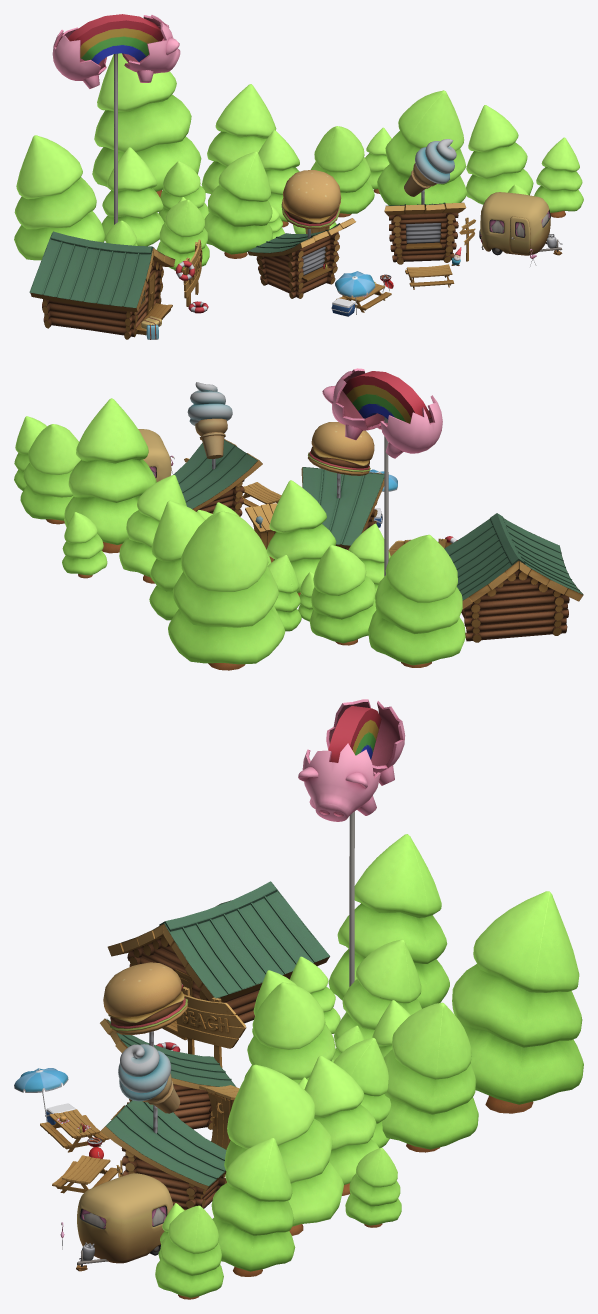
The picture shows the model from 3 angles, top to bottom: view 1: azimuth 30°, elevation 25°; view 2: azimuth 150°, elevation 25°; view 3: azimuth 270°, elevation 25°; orthographic projection. The views are drawn at different scales.
Visible parts, largest first — view 1: Group011_Material #11267_0, Group010_Material #11267_0, Object179_12 - Default_0, Group009_Material #11267_0, Object180_12 - Default_0, Group002_Material #11267_0, Cylinder002_05 - Default_0, Group012_Material #11267_0, Object153_Roulotte_0, Cylinder124_06 - Default_0, Group008_Material #11267_0, Object166_06 - Default_0 (+3 smaller); view 2: Group011_Material #11267_0, Group010_Material #11267_0, Group009_Material #11267_0, Object179_12 - Default_0, Object180_12 - Default_0, Cylinder002_05 - Default_0, Group002_Material #11267_0, Group012_Material #11267_0, Cylinder124_06 - Default_0, Object166_06 - Default_0, Object153_Roulotte_0, Box002_becosse_0 (+1 smaller); view 3: Group011_Material #11267_0, Group009_Material #11267_0, Group010_Material #11267_0, Object179_12 - Default_0, Group012_Material #11267_0, Object180_12 - Default_0, Cylinder002_05 - Default_0, Group002_Material #11267_0, Object153_Roulotte_0, Cylinder124_06 - Default_0, Object166_06 - Default_0, Obfff (+4 smaller).
Part boxes in pixels (bbox=[...]): Group011_Material #11267_0: bbox=[92, 53, 276, 222]; Group010_Material #11267_0: bbox=[14, 135, 164, 260]; Object179_12 - Default_0: bbox=[29, 231, 175, 339]; Group009_Material #11267_0: bbox=[310, 90, 467, 217]; Object180_12 - Default_0: bbox=[247, 189, 466, 298]; Group002_Material #11267_0: bbox=[157, 151, 272, 272]; Cylinder002_05 - Default_0: bbox=[52, 14, 180, 224]; Group012_Material #11267_0: bbox=[466, 105, 583, 217]; Object153_Roulotte_0: bbox=[479, 192, 562, 255]; Cylinder124_06 - Default_0: bbox=[281, 170, 341, 228]; Group008_Material #11267_0: bbox=[258, 130, 336, 238]; Object166_06 - Default_0: bbox=[404, 139, 456, 196]; Group011_Material #11267_0: bbox=[149, 500, 301, 670]; Group010_Material #11267_0: bbox=[309, 534, 465, 667]; Group009_Material #11267_0: bbox=[62, 398, 186, 583]; Object179_12 - Default_0: bbox=[444, 513, 583, 642]; Object180_12 - Default_0: bbox=[173, 439, 384, 550]; Cylinder002_05 - Default_0: bbox=[322, 368, 442, 576]; Group002_Material #11267_0: bbox=[266, 480, 390, 621]; Group012_Material #11267_0: bbox=[14, 416, 80, 524]; Cylinder124_06 - Default_0: bbox=[308, 422, 374, 475]; Object166_06 - Default_0: bbox=[187, 382, 232, 458]; Object153_Roulotte_0: bbox=[138, 429, 171, 481]; Box002_becosse_0: bbox=[245, 503, 276, 562]; Group011_Material #11267_0: bbox=[372, 891, 583, 1152]; Group009_Material #11267_0: bbox=[224, 1055, 401, 1235]; Group010_Material #11267_0: bbox=[290, 834, 449, 1042]; Object179_12 - Default_0: bbox=[107, 881, 329, 1040]; Group012_Material #11267_0: bbox=[155, 1138, 295, 1299]; Object180_12 - Default_0: bbox=[100, 1018, 236, 1210]; Cylinder002_05 - Default_0: bbox=[298, 699, 405, 986]; Group002_Material #11267_0: bbox=[244, 970, 364, 1083]; Object153_Roulotte_0: bbox=[76, 1173, 173, 1271]; Cylinder124_06 - Default_0: bbox=[103, 962, 188, 1035]; Object166_06 - Default_0: bbox=[118, 1044, 180, 1113]; Obfff: bbox=[156, 984, 246, 1067].
Bounding box in the file's own units: 5816 × 2547 × 3963.
22 materials, 21 textured.
